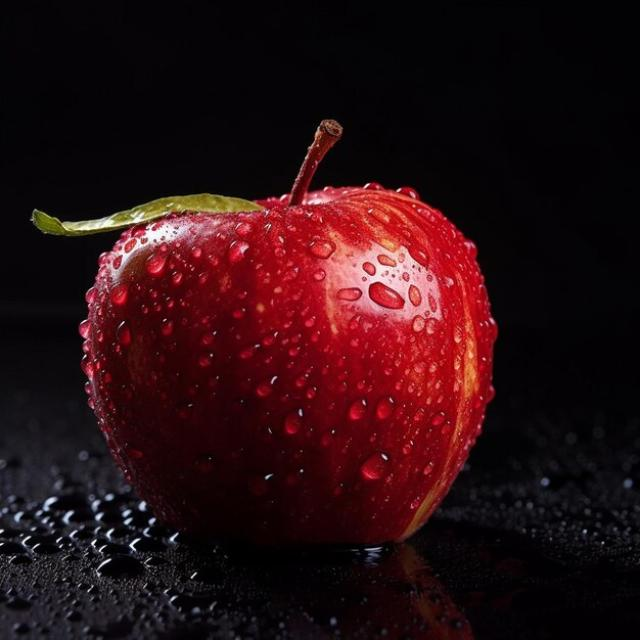apple_fruit: (74, 179, 499, 545)
